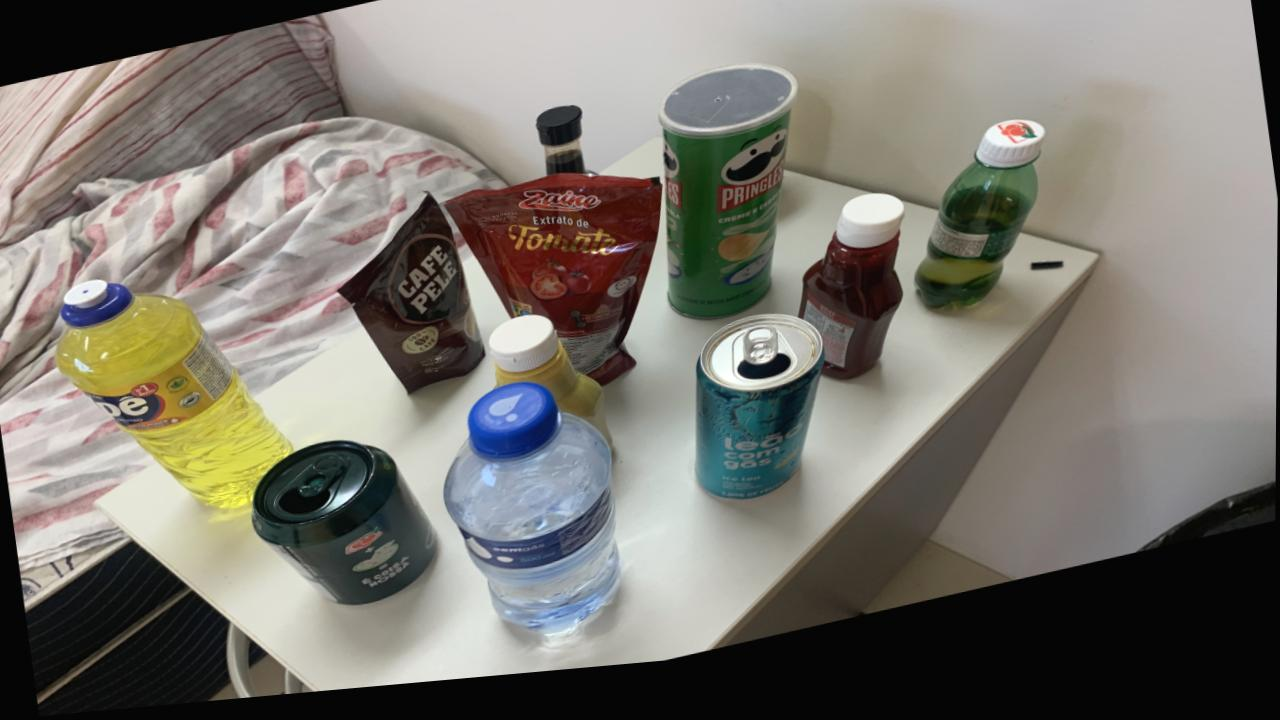Coffee-Pantry_Items: (340, 201, 486, 399)
Detergent-Cleanup_Items: (55, 280, 292, 511)
English_Sauce-Pantry_Items: (536, 115, 584, 185)
Guarana-Drinks: (915, 138, 1044, 325)
Guarana_Can-Drinks: (252, 446, 438, 611)
Ketchup-Pantry_Items: (800, 209, 906, 395)
Mustard-Pantry_Items: (489, 324, 614, 459)
Pringles-Snacks: (658, 77, 798, 332)
Tea-Drinks: (695, 328, 825, 513)
Tomato_Sauce-Pantry_Items: (446, 183, 662, 394)
Water_Bottle-Drinks: (443, 391, 622, 645)
